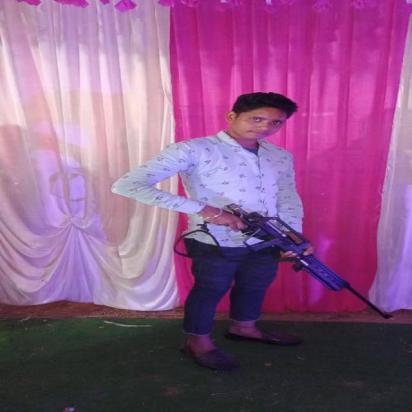Gun: (200, 202, 394, 320)
